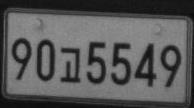0: (35, 38, 55, 81)
4: (133, 42, 156, 87)
5: (110, 42, 132, 86), (85, 41, 107, 84)
9: (160, 43, 182, 87), (10, 37, 32, 80)
고: (59, 47, 82, 82)
